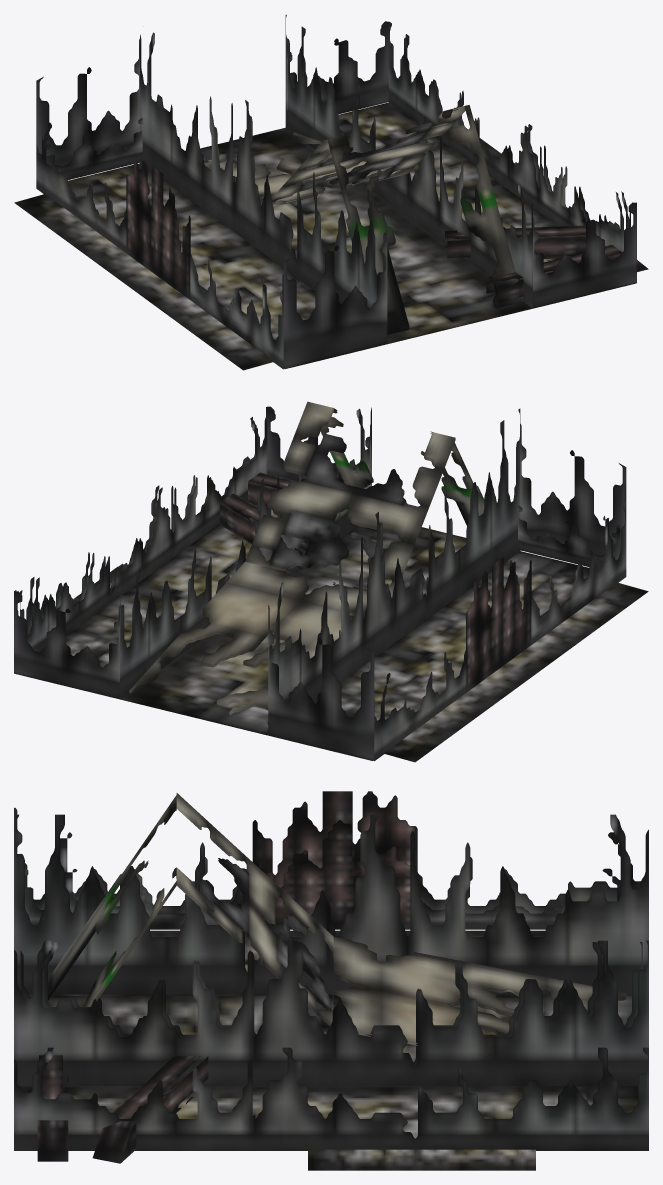
File: industrialcomplex_dam.glb
The picture shows the model from 3 angles, top to bottom: view 1: azimuth 30°, elevation 25°; view 2: azimuth 150°, elevation 25°; view 3: azimuth 270°, elevation 25°; orthographic projection. The views are drawn at different scales.
Parts seen in each view (by area): view 1: Object10; view 2: Object10; view 3: Object10.
Boxes of the visible parts, left/top/right/bottom form: Object10: left=14, top=15, right=648, bottom=370; Object10: left=14, top=401, right=648, bottom=762; Object10: left=14, top=791, right=648, bottom=1170.
Size of the model in its own units: 24.17 by 8.84 by 24.9.
1 material, 1 textured.
